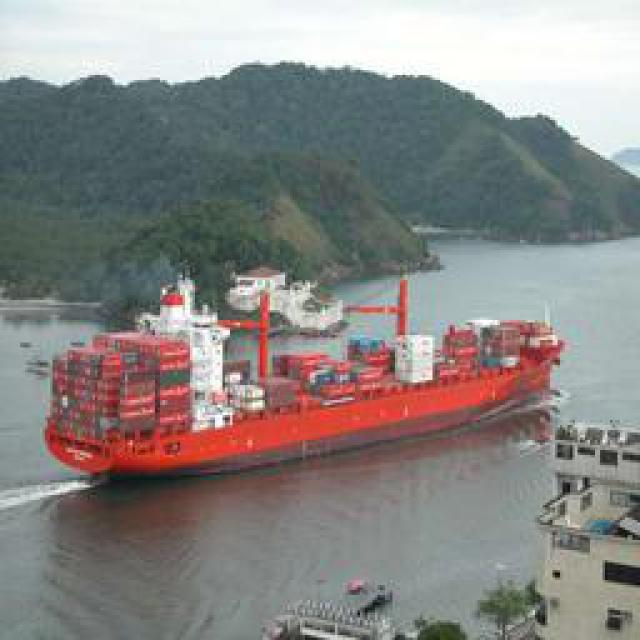Ship: (40, 273, 563, 488)
